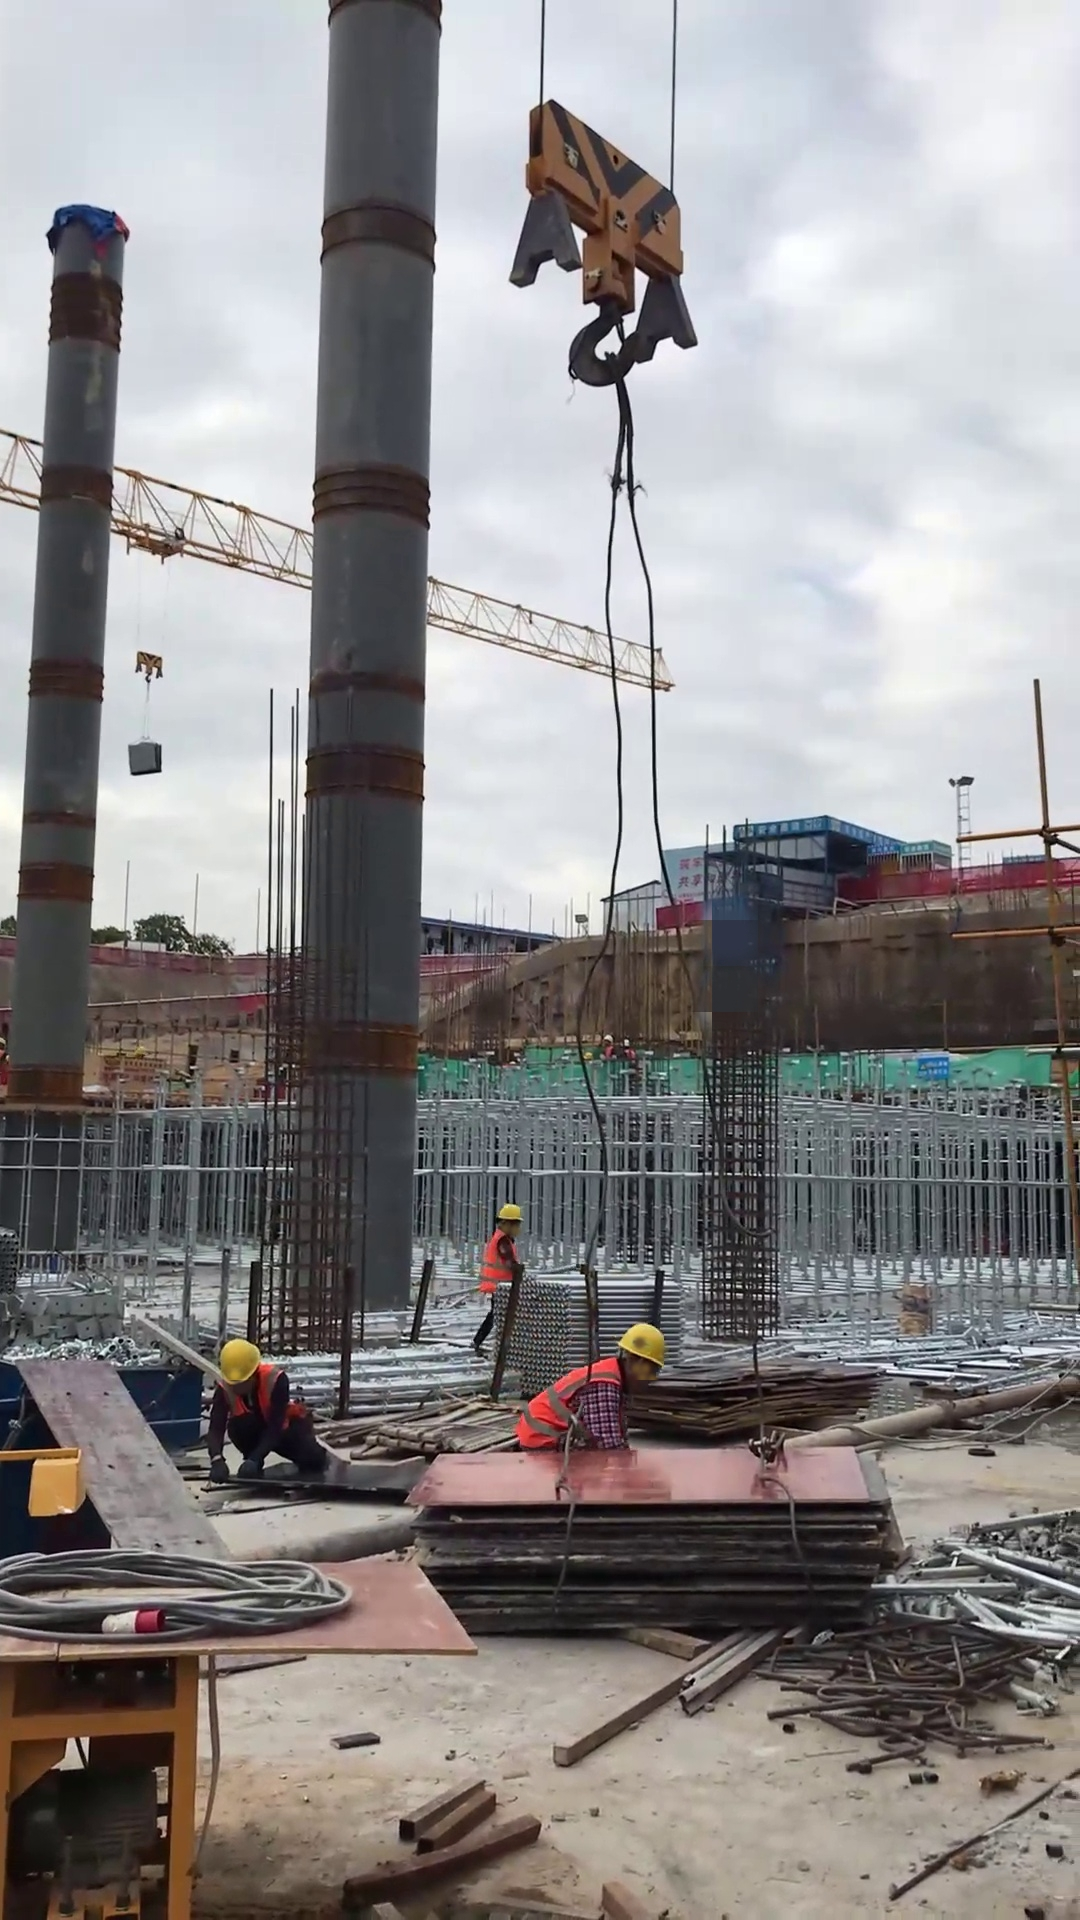board: (402, 1448, 905, 1634), (631, 1359, 891, 1436)
cutter: (1, 1438, 480, 1918)
helmet: (617, 1321, 668, 1368), (217, 1336, 263, 1387), (494, 1203, 524, 1224), (602, 1034, 614, 1044)
hook: (506, 96, 700, 389), (135, 649, 165, 685)
hopper: (1, 1358, 206, 1559)
person: (511, 1321, 668, 1453), (204, 1336, 327, 1484), (471, 1200, 524, 1355), (599, 1034, 619, 1062)
scaffold: (492, 1265, 686, 1401), (302, 1346, 490, 1416)
slogan: (735, 816, 950, 855), (674, 850, 731, 887), (917, 1047, 949, 1085)
vest: (513, 1355, 623, 1451), (212, 1366, 311, 1434), (477, 1228, 520, 1294), (602, 1044, 617, 1061)
